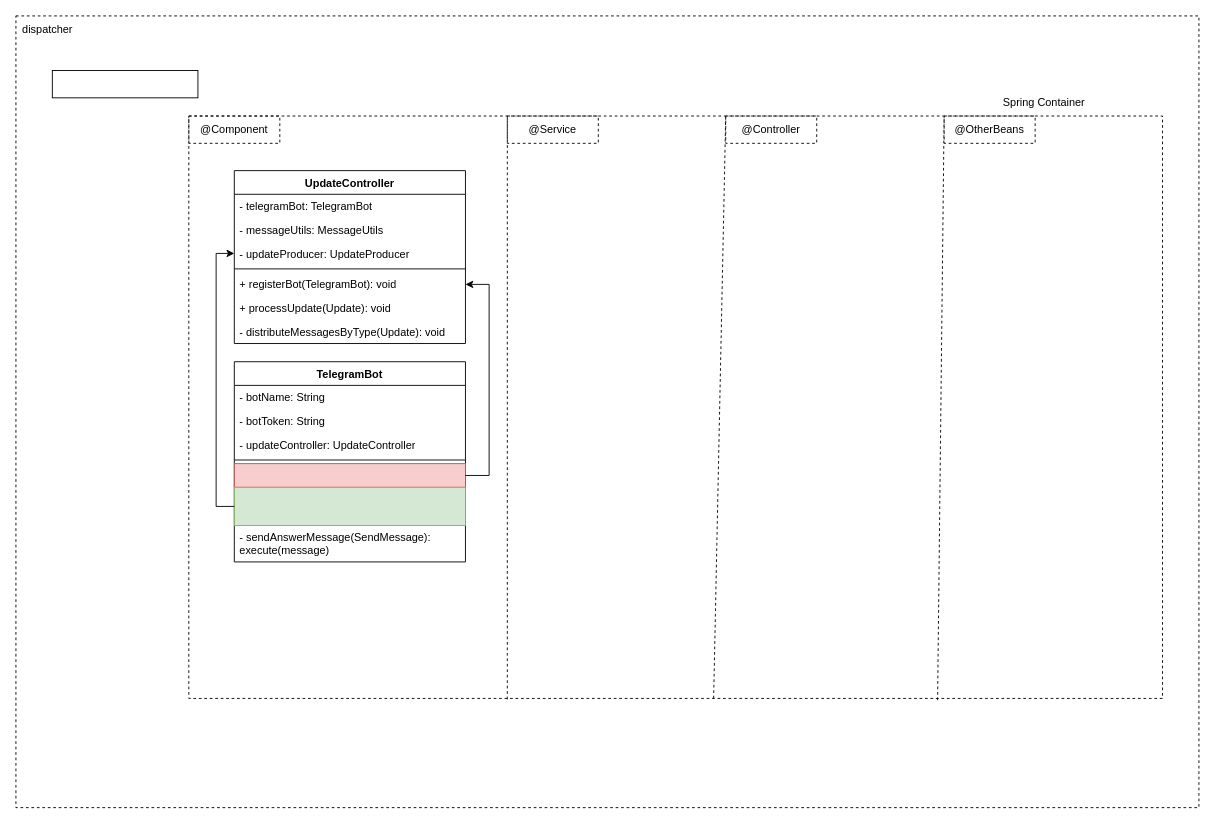
Some shapes in this 1215 by 824 pixel diagram are drawn without their labels. The centre of each missing label's shape, as x and y in pixels:
"+ init(): updateController.registerBot(this)" goes at [349,475].
"+ onUpdateReceived(Update): updateController.processUpdate(update)" goes at [349,506].
"DispatcherApplication.run()" goes at [124,84].
